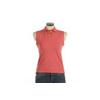canottiera: (36, 26, 64, 74)
